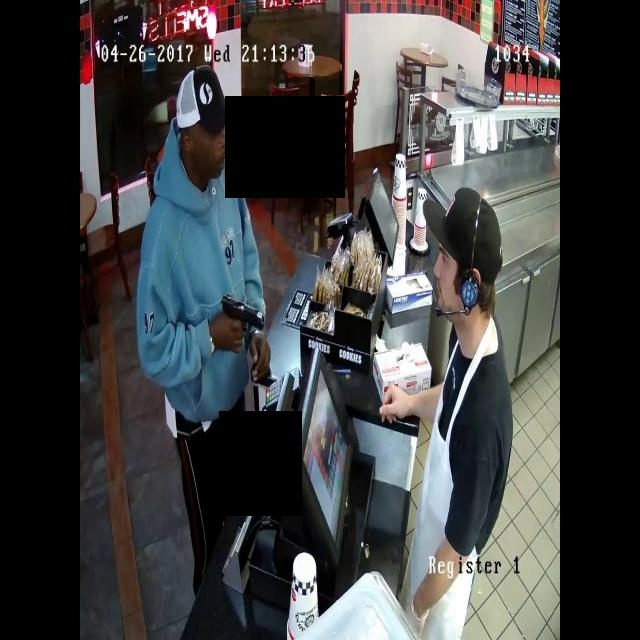gun: (207, 287, 274, 346)
